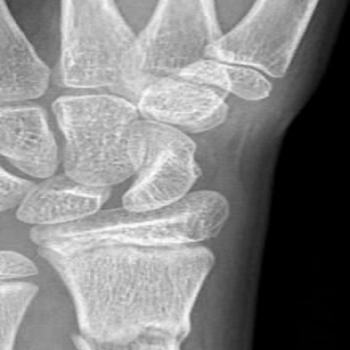Fracture: (62, 320, 208, 348)
